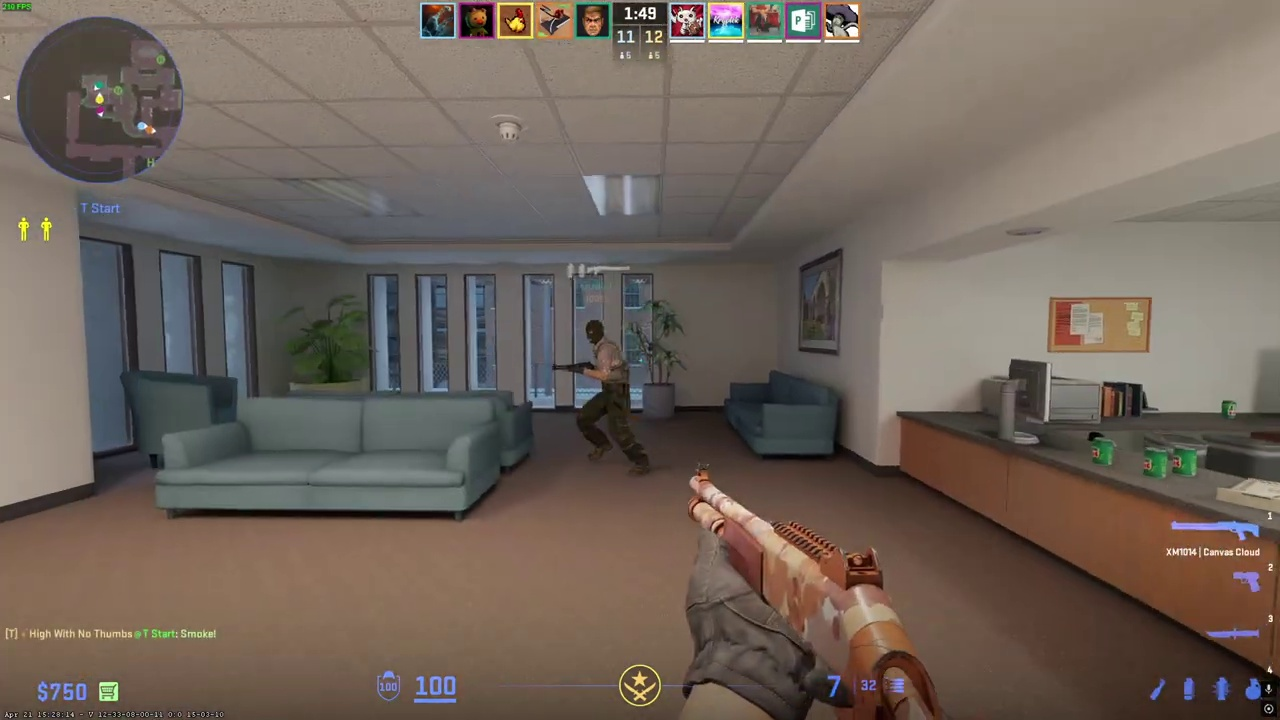Terrorist: (573, 320, 643, 477)
